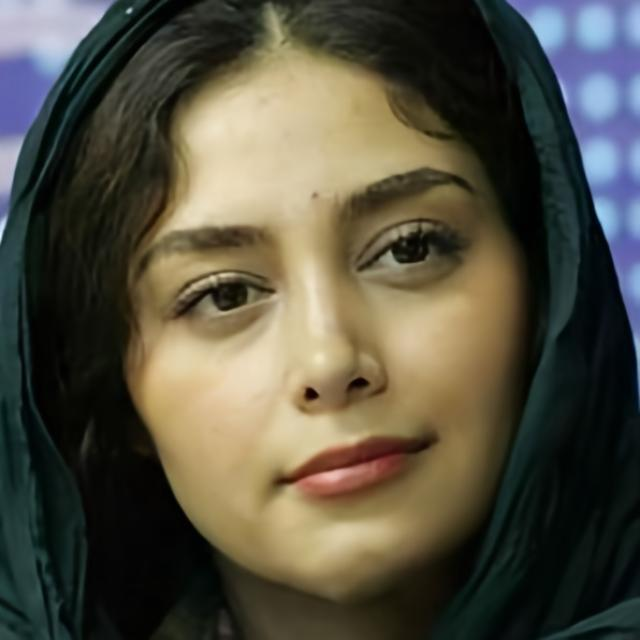content: (119, 57, 525, 588)
